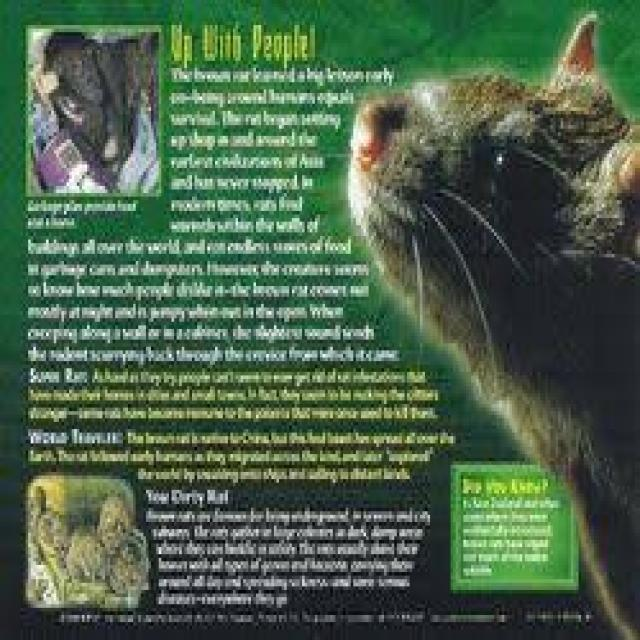rat: (346, 7, 638, 637)
